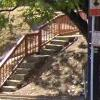stairs: (1, 36, 38, 98), (32, 33, 76, 57)
